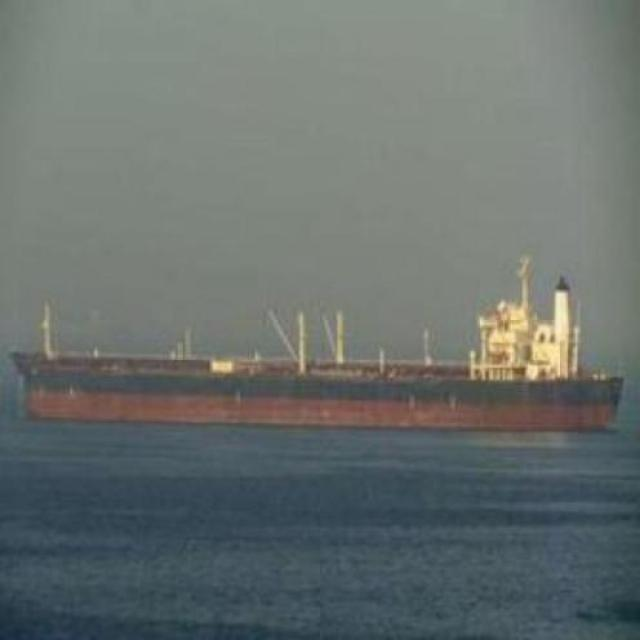boat: (8, 295, 627, 440)
